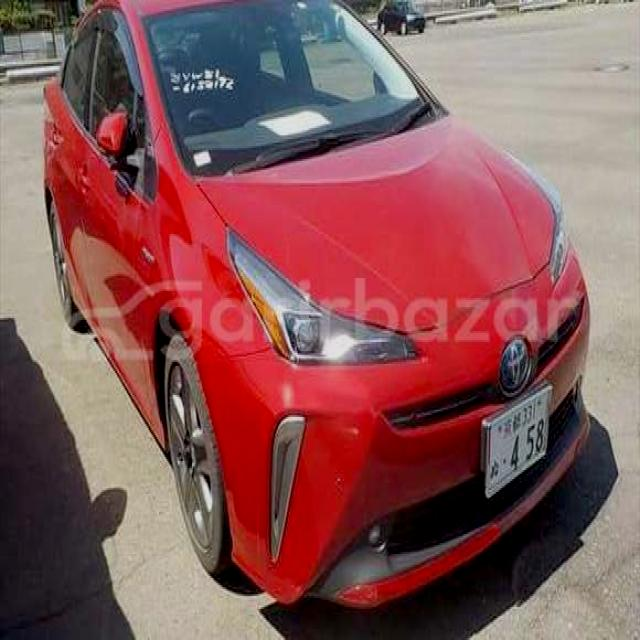red: (4, 1, 607, 628)
